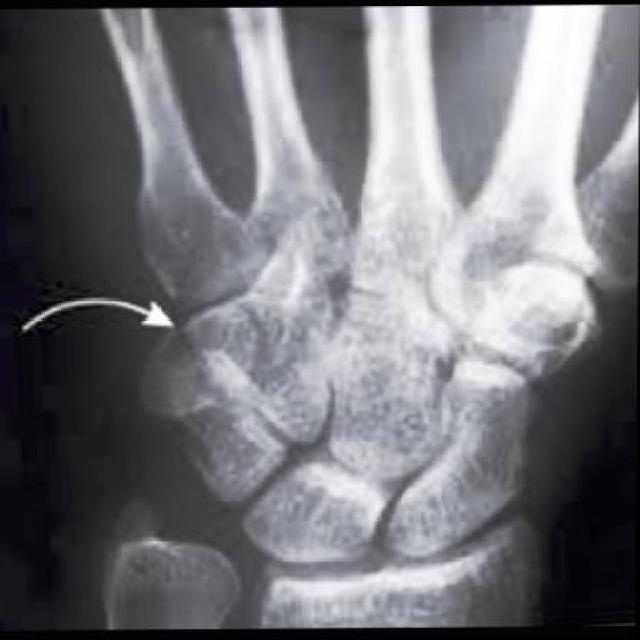Fracture: (137, 315, 275, 473)
